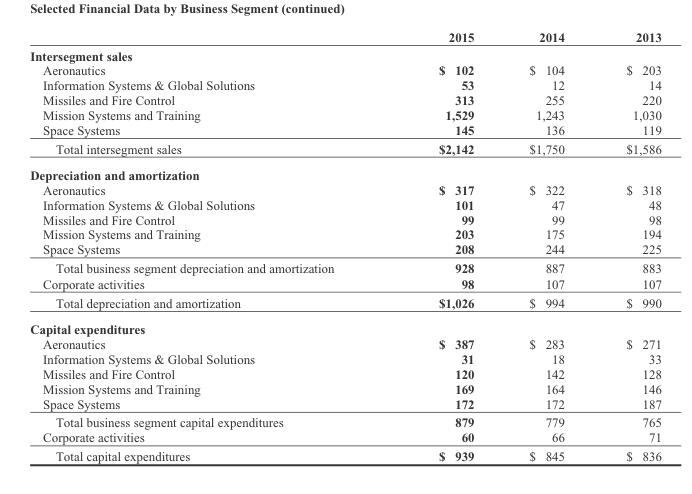table: (29, 29, 660, 462)
table column: (29, 29, 385, 462), (385, 29, 501, 462), (501, 29, 594, 462), (594, 29, 660, 462)
table column header: (29, 29, 660, 45)
table projected row header: (29, 161, 660, 182), (29, 315, 660, 336), (29, 45, 660, 62)
table row: (29, 138, 660, 161), (29, 292, 660, 315), (29, 161, 660, 182), (29, 315, 660, 336), (29, 45, 660, 62), (29, 241, 660, 258), (29, 258, 660, 275), (29, 275, 660, 292), (29, 412, 660, 429), (29, 429, 660, 446), (29, 29, 660, 45), (29, 122, 660, 138), (29, 396, 660, 412), (29, 446, 660, 462), (29, 62, 660, 77), (29, 77, 660, 92), (29, 92, 660, 107), (29, 107, 660, 122), (29, 182, 660, 197), (29, 211, 660, 226), (29, 226, 660, 241), (29, 336, 660, 351), (29, 351, 660, 366), (29, 366, 660, 381), (29, 381, 660, 396), (29, 197, 660, 211)
